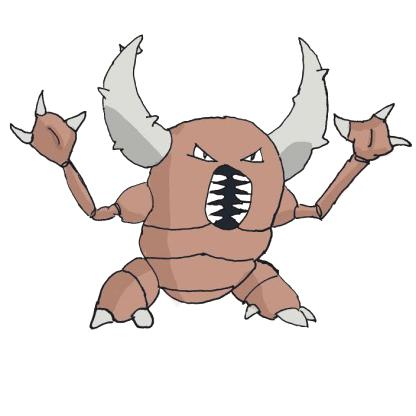Pinsir: (0, 21, 398, 415)
